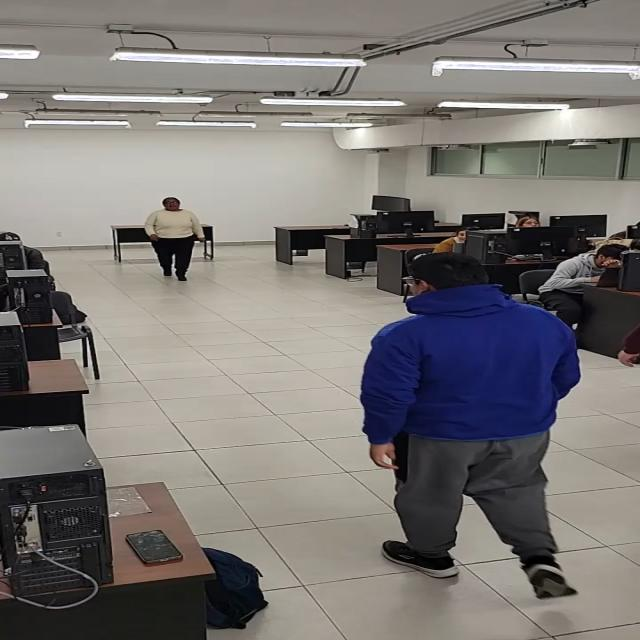Persona: (358, 253, 581, 601), (145, 197, 205, 282)
